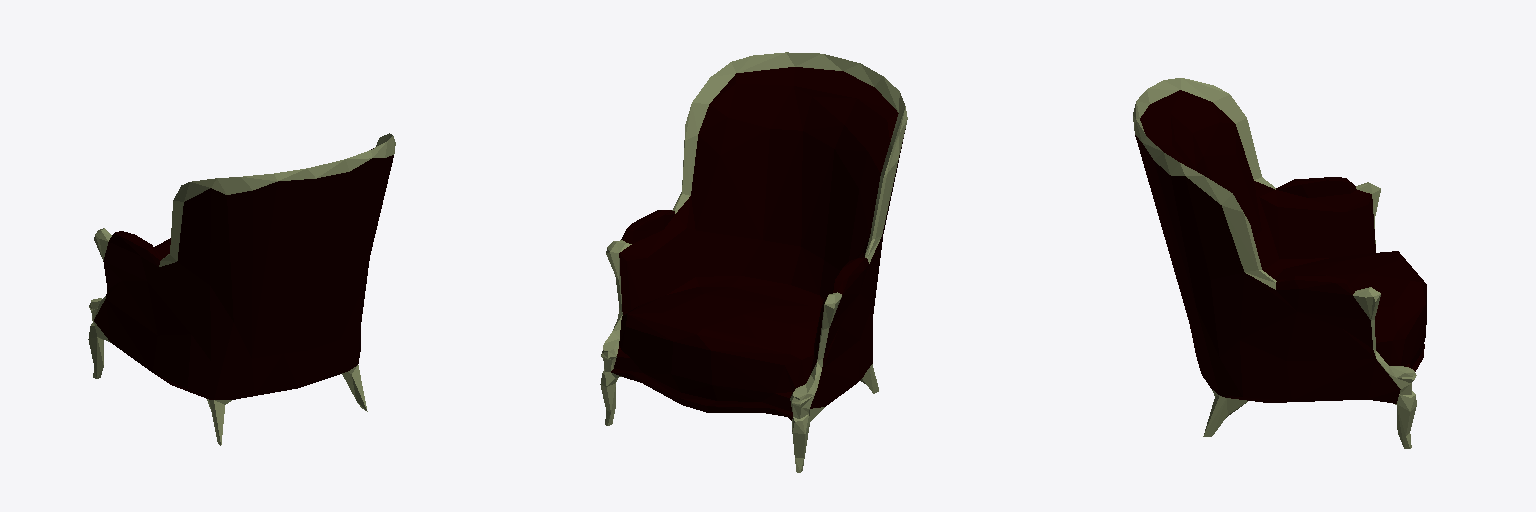
Rendered from WingChair.obj.
3 renders of one model, left to right at view 1: azimuth 30°, elevation 25°; view 2: azimuth 150°, elevation 25°; view 3: azimuth 270°, elevation 25°, orthographic.
Parts seen in each view (by area): view 1: WingChair_Plane.001; view 2: WingChair_Plane.001; view 3: WingChair_Plane.001.
Part boxes in pixels (left/top/right/bottom): WingChair_Plane.001: left=88, top=133, right=395, bottom=445; WingChair_Plane.001: left=600, top=52, right=907, bottom=472; WingChair_Plane.001: left=1133, top=78, right=1426, bottom=448.
Size of the model in its own units: 0.9885 by 1.2 by 1.1.